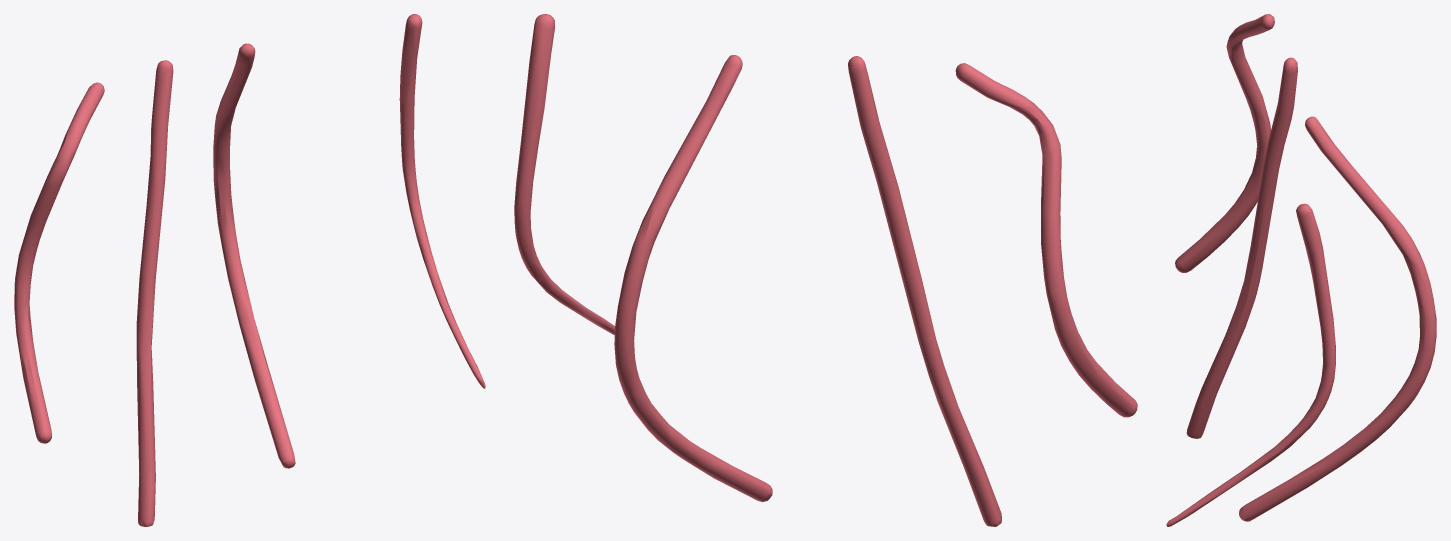
Rendered from fma22864_fj2289.glb.
The picture shows the model from 3 angles, left to right: view 1: azimuth 30°, elevation 25°; view 2: azimuth 150°, elevation 25°; view 3: azimuth 270°, elevation 25°; orthographic projection. The views are drawn at different scales.
Parts seen in each view (by area): view 1: FMA22864_FJ2289; view 2: FMA22864_FJ2289; view 3: FMA22864_FJ2289.
Boxes of the visible parts, x1,y1,x2,y2 form: FMA22864_FJ2289: [14, 14, 485, 526]; FMA22864_FJ2289: [514, 14, 1137, 526]; FMA22864_FJ2289: [1166, 14, 1436, 526].
Size of the model in its own units: 0.0425 by 0.0379 by 0.0222.
